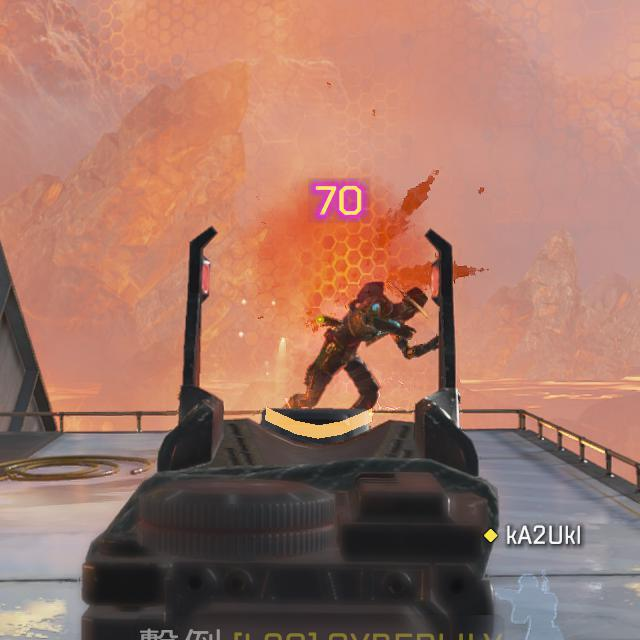avatar: (302, 281, 428, 409)
